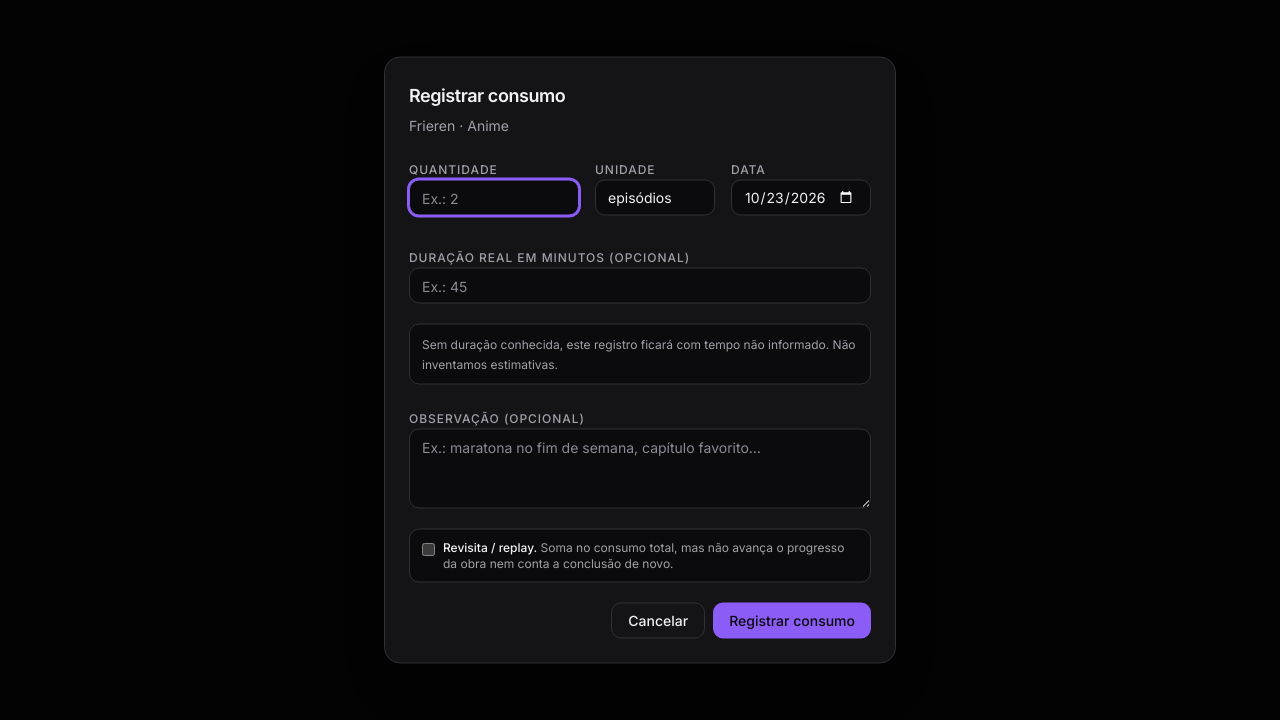
MediaEventDialog › exige uma quantidade maior que zero
Click the button "Registrar consumo": (792, 620) [713, 602, 871, 638]
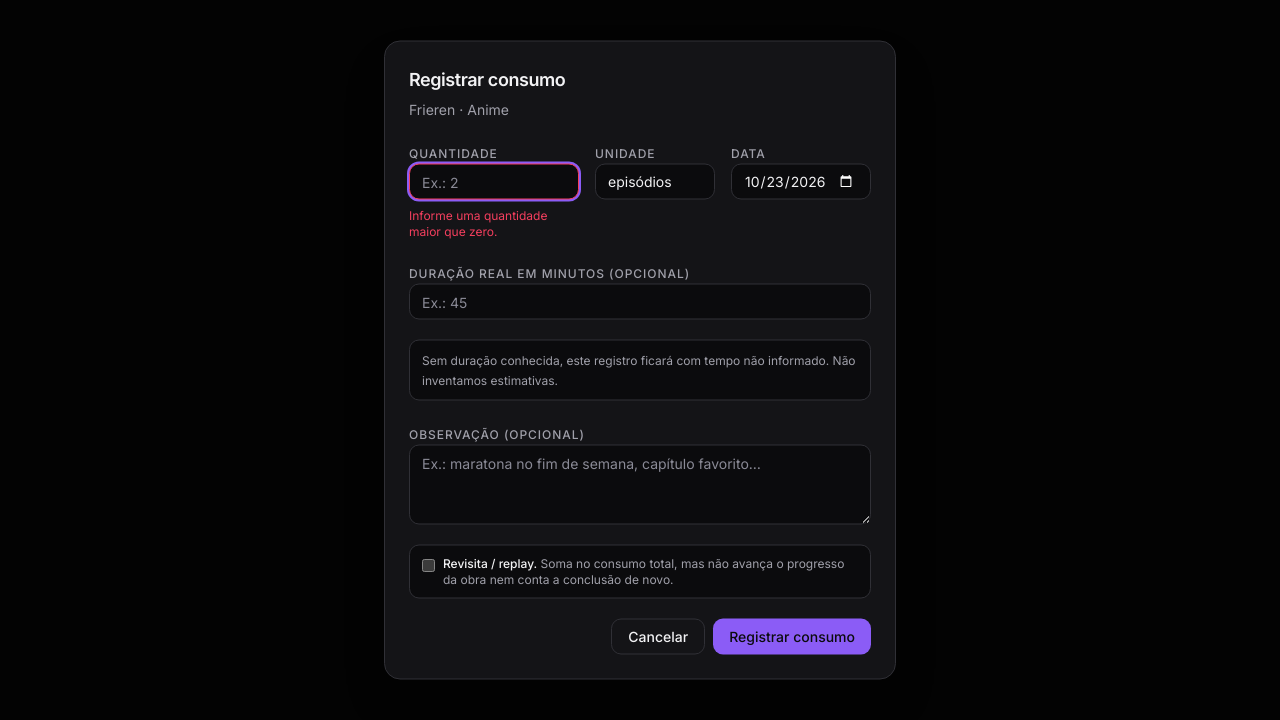
Expected: the text "Informe uma quantidade maior que zero." is shown, [409, 208, 548, 238]
